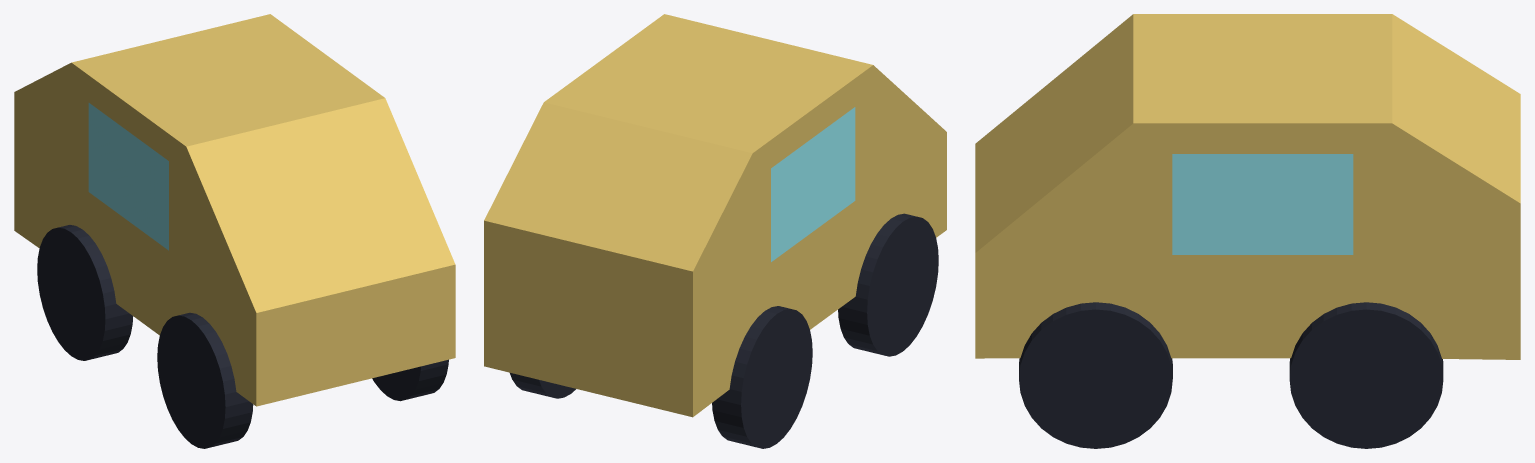
File: Car_04.fbx
3 views of the same model, side by side, from view 1: azimuth 30°, elevation 25°; view 2: azimuth 150°, elevation 25°; view 3: azimuth 270°, elevation 25° (orthographic). The views are drawn at different scales.
Visible parts, largest first — view 1: Cube, Cylinder.001, Cylinder; view 2: Cube, Cylinder.001, Cylinder; view 3: Cube, Cylinder.
Boxes of the visible parts, bbox=[...] form: Cube: bbox=[14, 14, 455, 406]; Cylinder.001: bbox=[37, 225, 253, 448]; Cylinder: bbox=[372, 359, 448, 401]; Cube: bbox=[484, 14, 946, 417]; Cylinder.001: bbox=[712, 213, 938, 448]; Cylinder: bbox=[510, 373, 575, 398]; Cube: bbox=[975, 14, 1520, 359]; Cylinder: bbox=[1019, 302, 1443, 448].
Size of the model in its own units: 225 by 271 by 421.
